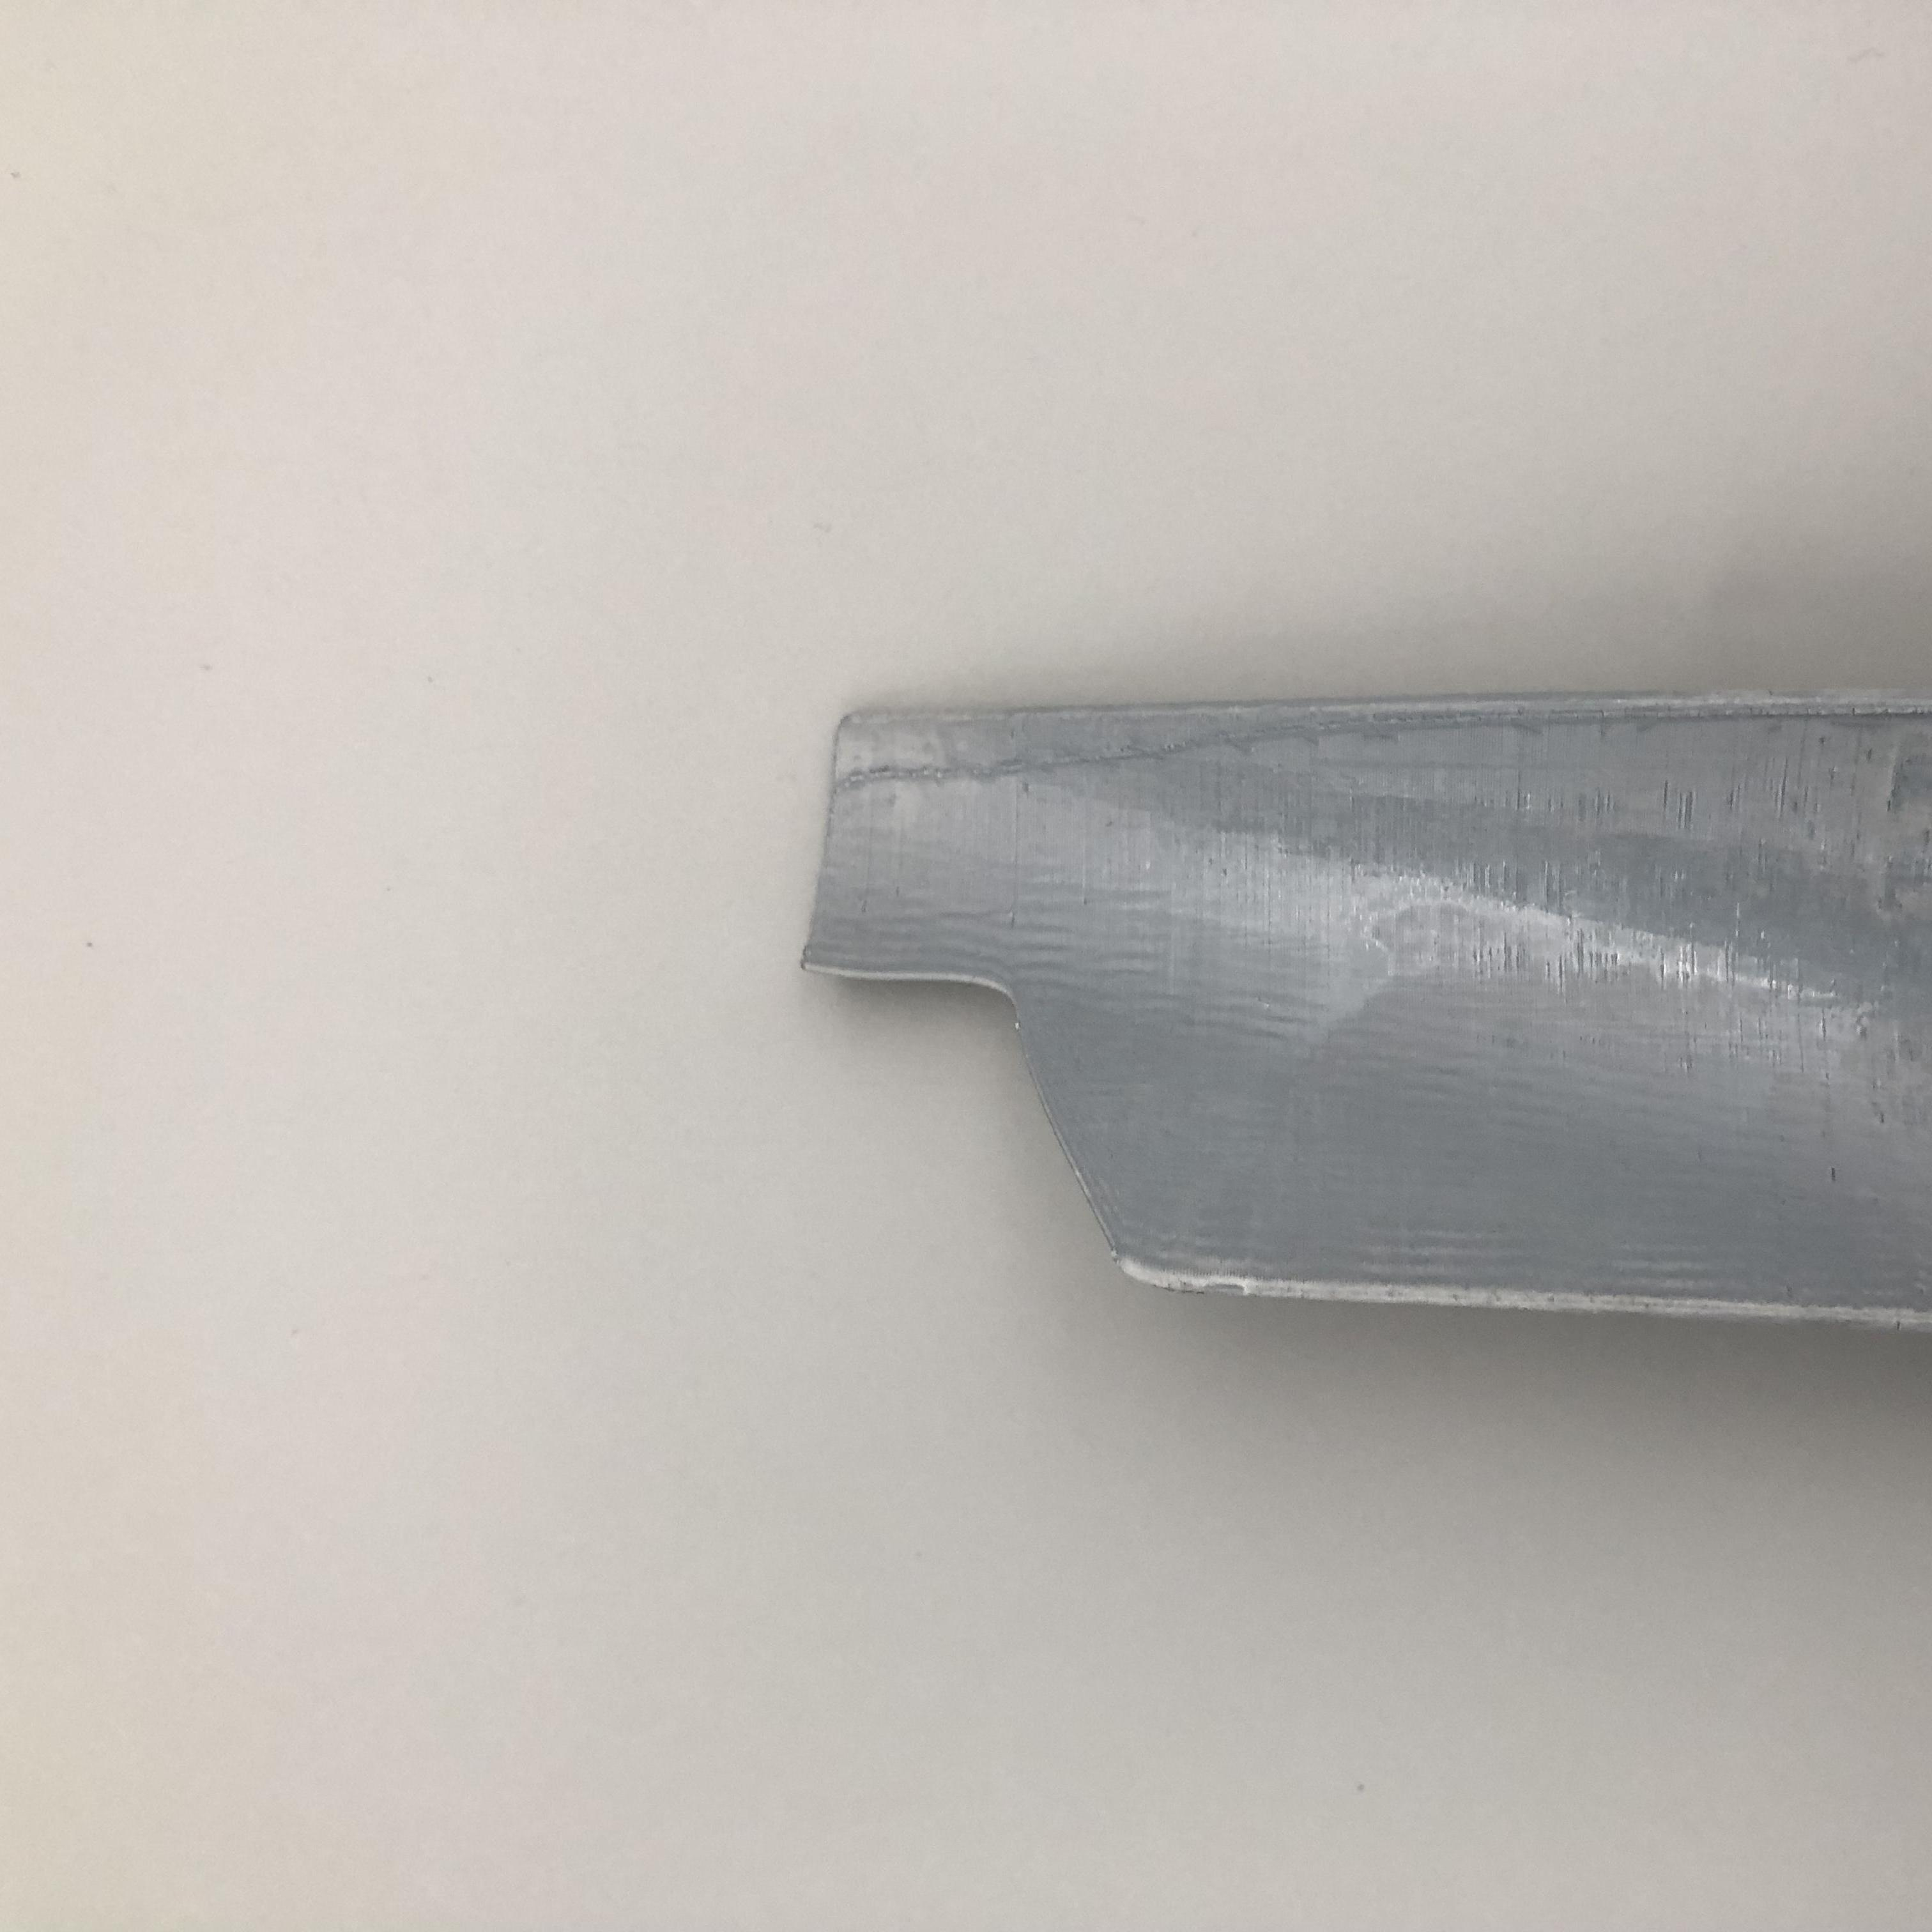fracture: (793, 939, 1226, 1302)
